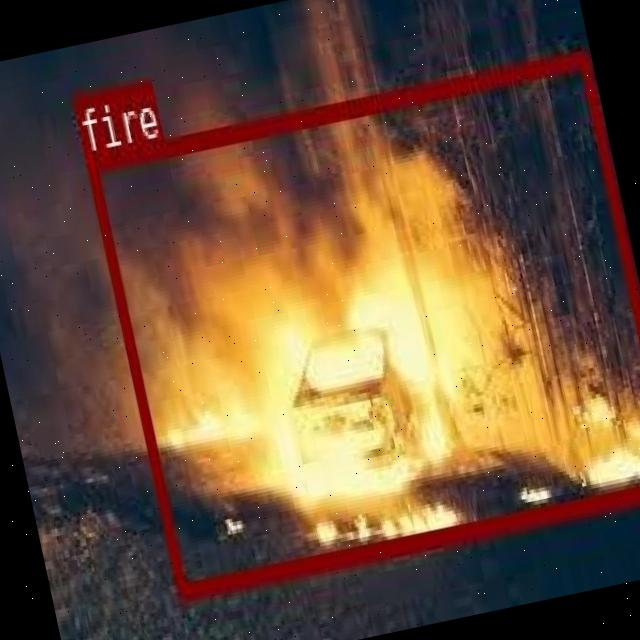fire: (83, 47, 640, 599)
